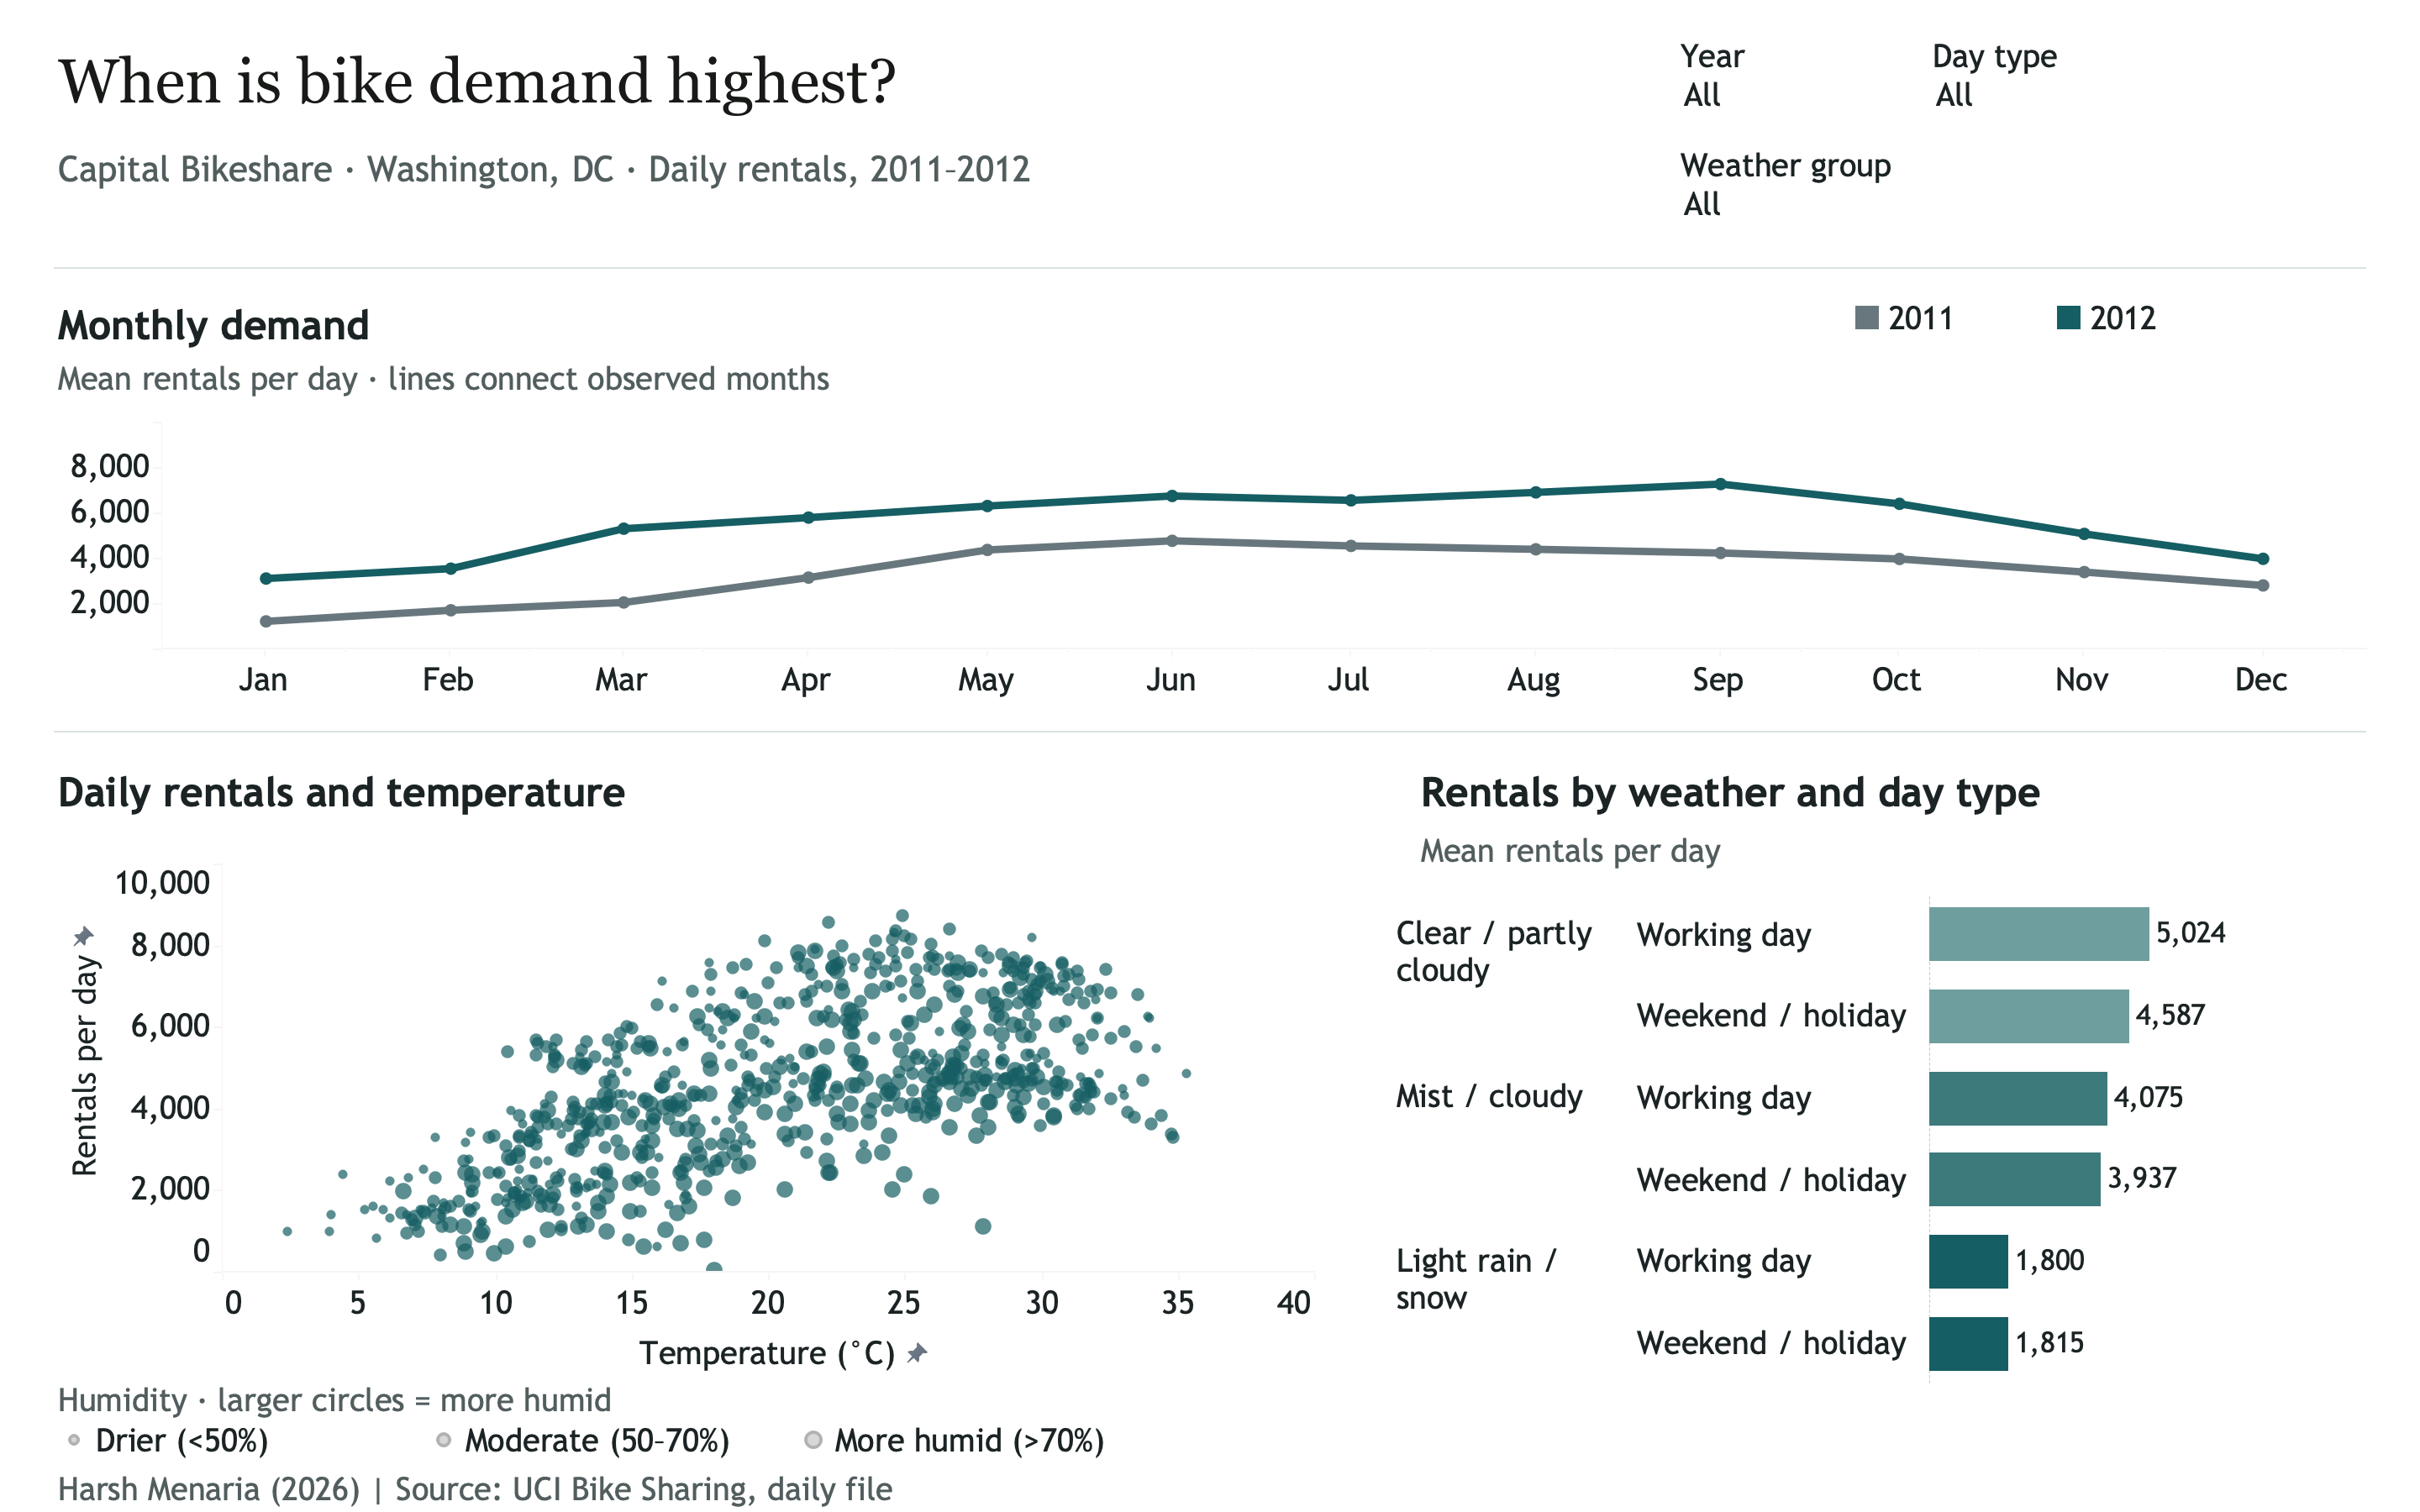

The page's visual inventory and layout, read from the dashboard file:
{"tool":"tableau","page":{"name":"Bike demand | Prototype","canvas":[1440,900],"ordinal":0},"visuals":[{"type":"blank","box":[0,0,1440,900]},{"type":"filter","title":"01 Monthly demand","param":"[federated.bike_demand].[none:Year:nk]","box":[1000,21,180,54]},{"type":"filter","title":"01 Monthly demand","param":"[federated.bike_demand].[none:DayType:nk]","box":[1200,21,208,54]},{"type":"text","box":[32,23,925,52]},{"type":"text","box":[32,86,925,30]},{"type":"filter","title":"02 Temperature and rentals","param":"[federated.bike_demand].[none:Calculation_1907443823489024:nk]","box":[1000,86,180,54]},{"type":"filter","title":"01 Monthly demand","param":"[federated.bike_demand].[none:Weather:nk]","box":[1200,86,208,54]},{"type":"blank","box":[32,159,1376,1]},{"type":"text","box":[1100,178,308,34]},{"type":"text","box":[32,179,1376,29]},{"type":"text","box":[32,214,1376,24]},{"type":"worksheet","title":"01 Monthly demand","mark":"Line","rows":["DailyRentals"],"cols":["Calculation_1435546893139968"],"box":[32,251,1376,165]},{"type":"blank","box":[32,435,1376,1]},{"type":"text","box":[32,457,750,29]},{"type":"text","box":[843,457,565,29]},{"type":"text","box":[843,492,565,30]},{"type":"worksheet","title":"02 Temperature and rentals","mark":"Shape","rows":["DailyRentals"],"cols":["TemperatureC"],"box":[32,514,750,310]},{"type":"worksheet","title":"03 Weather and day type","mark":"Bar","rows":["Weather","DayType"],"cols":["DailyRentals"],"box":[825,532,583,292]},{"type":"text","box":[32,819,600,30]},{"type":"text","box":[32,846,216,35]},{"type":"text","box":[252,846,223.2,35]},{"type":"text","box":[475.2,846,302.4,35]},{"type":"text","box":[32,875,1376,23]}]}

Visuals, with their boxes in screenshot pixels (x1, y1, x2, y2), scaled from the page's 1440x900 canvas onto the 2420x1512 screenshot:
blank: (0,0,2419,1511)
"01 Monthly demand" filter: (1681,35,1983,126)
"01 Monthly demand" filter: (2017,35,2366,126)
text: (54,39,1608,126)
text: (54,144,1608,195)
"02 Temperature and rentals" filter: (1681,144,1983,235)
"01 Monthly demand" filter: (2017,144,2366,235)
blank: (54,267,2366,269)
text: (1849,299,2366,356)
text: (54,301,2366,349)
text: (54,360,2366,400)
"01 Monthly demand" worksheet (Line marks): (54,422,2366,699)
blank: (54,731,2366,732)
text: (54,768,1314,816)
text: (1417,768,2366,816)
text: (1417,827,2366,877)
"02 Temperature and rentals" worksheet (Shape marks): (54,864,1314,1384)
"03 Weather and day type" worksheet (Bar marks): (1386,894,2366,1384)
text: (54,1376,1062,1426)
text: (54,1421,417,1480)
text: (423,1421,798,1480)
text: (798,1421,1307,1480)
text: (54,1470,2366,1509)
